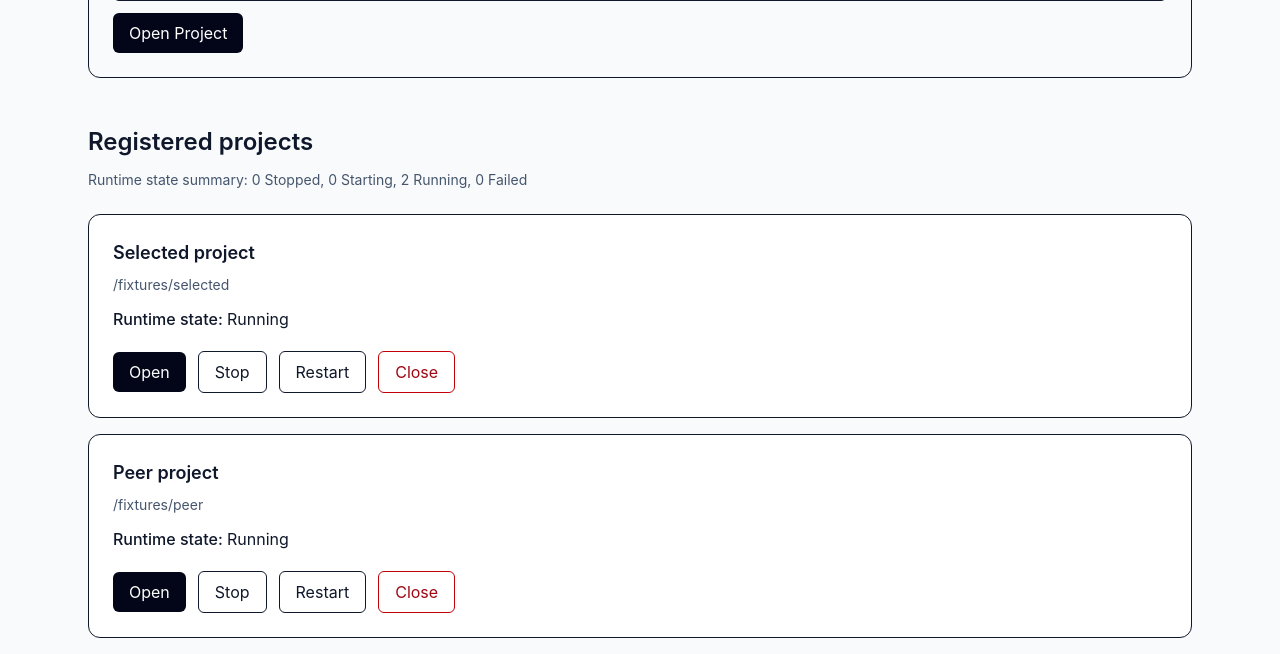
Test: Project Home selected Stop interaction › renders only the client-owned invalid_stop_request rejection and does not refresh
(page scrolled)
Check: the text labelled "Runtime state summary" is shown, box [88, 171, 527, 188]
Click the button with aria-label "Stop Selected project workbench" at (232, 372), box [198, 351, 266, 393]
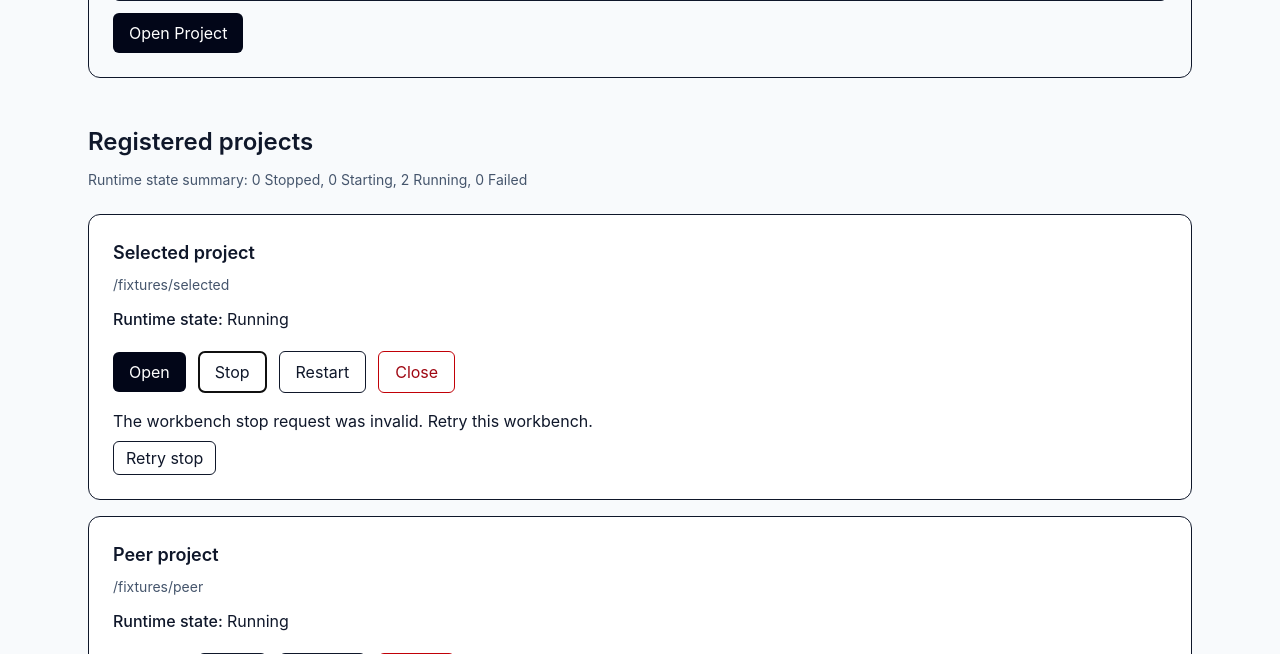
Check: the list item named "Stop Selected project workbench" shows "Selected project", box [113, 242, 255, 263]
Check: the message shows "The workbench stop request was invalid. Retry this workbench.", box [113, 411, 593, 431]
Check: the button "Retry stop" is shown, box [113, 441, 216, 475]
